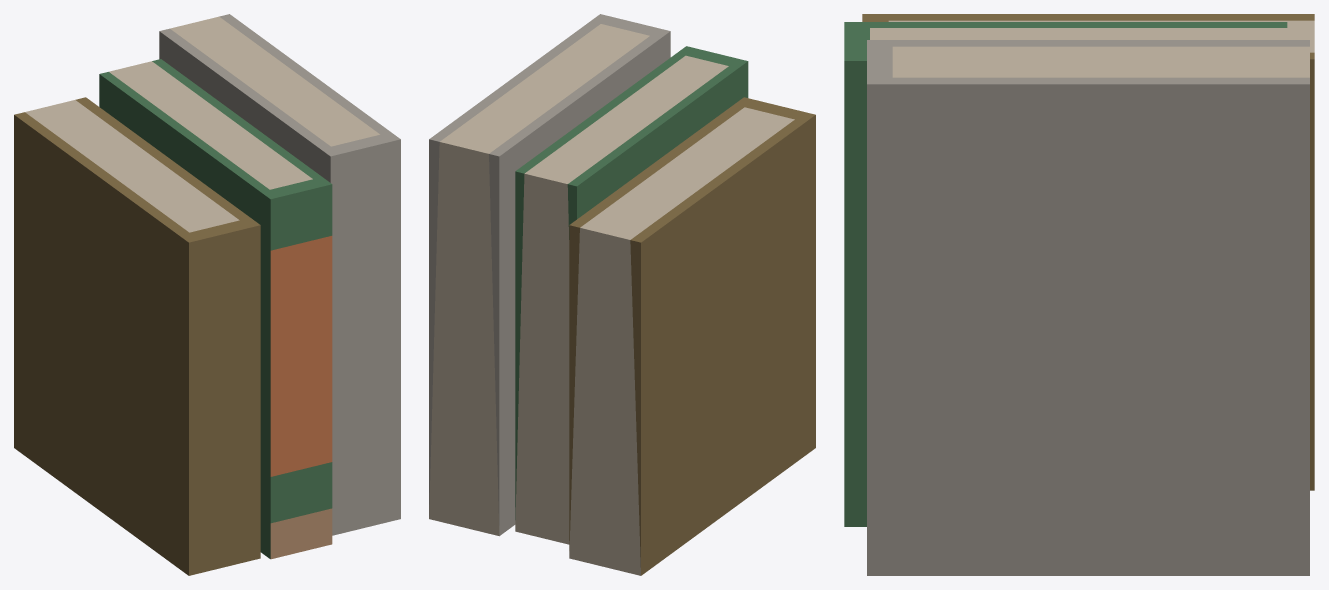
Rendered from SM_Prop_Book_Group_03.fbx.
The picture shows the model from 3 angles, left to right: view 1: azimuth 30°, elevation 25°; view 2: azimuth 150°, elevation 25°; view 3: azimuth 270°, elevation 25°; orthographic projection. The views are drawn at different scales.
Visible parts, largest first — view 1: SM_Prop_Book_Group_03; view 2: SM_Prop_Book_Group_03; view 3: SM_Prop_Book_Group_03.
Part boxes in pixels (box(x1,y1,x2,y2)): SM_Prop_Book_Group_03: box(14, 14, 400, 575); SM_Prop_Book_Group_03: box(429, 14, 815, 575); SM_Prop_Book_Group_03: box(844, 14, 1314, 575).
Bounding box in the file's own units: 20.67 × 35.41 × 30.45.
